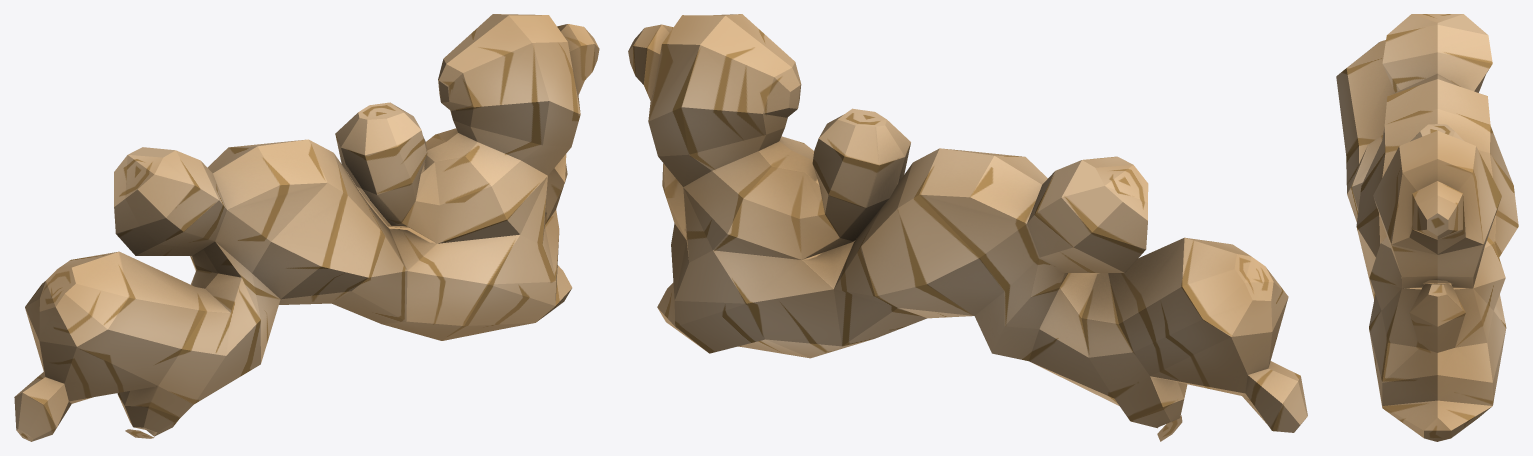
Rendered from GingerRoot.obj.
3 views of the same model, side by side, from view 1: azimuth 30°, elevation 25°; view 2: azimuth 150°, elevation 25°; view 3: azimuth 270°, elevation 25° (orthographic). The views are drawn at different scales.
Parts seen in each view (by area): view 1: GingerRoot_mesh; view 2: GingerRoot_mesh; view 3: GingerRoot_mesh.
Boxes of the visible parts, x1,y1,x2,y2 form: GingerRoot_mesh: [14, 14, 599, 441]; GingerRoot_mesh: [628, 14, 1307, 441]; GingerRoot_mesh: [1336, 14, 1518, 441].
Size of the model in its own units: 18.24 by 9.11 by 4.92.
1 material, 1 textured.
